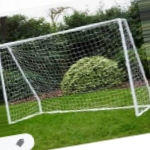goals: (1, 15, 150, 123)
